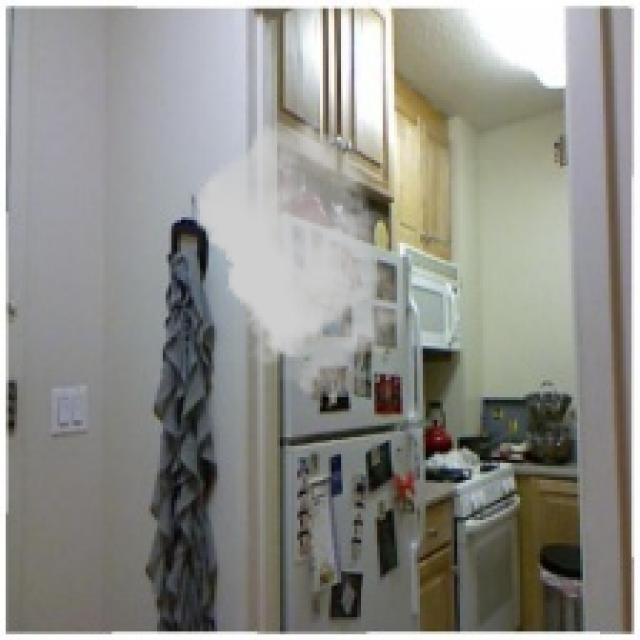smoke: (197, 120, 406, 397)
